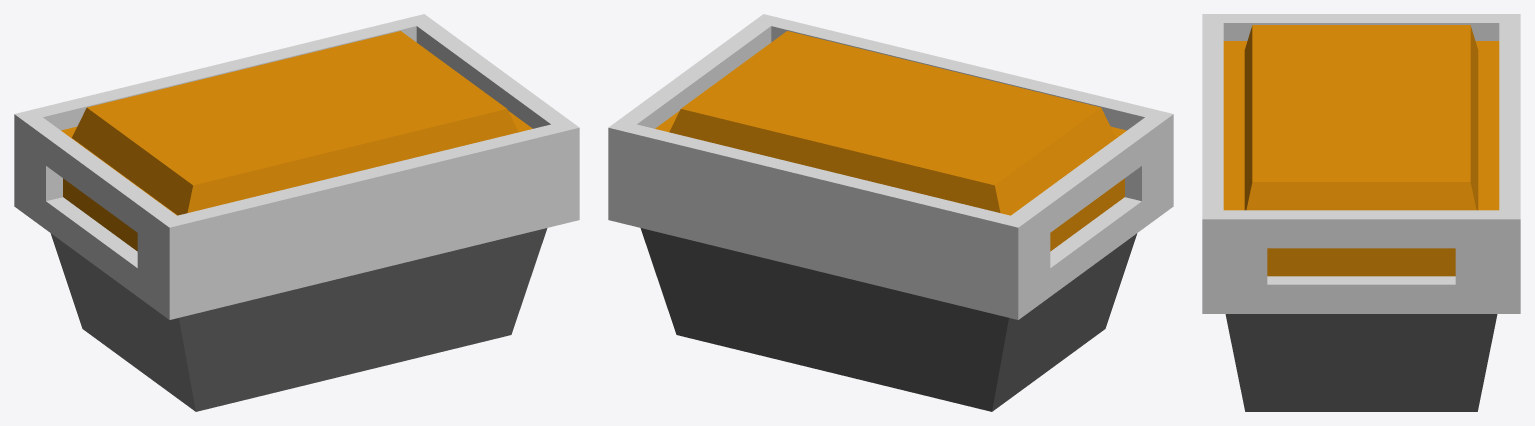
Rendered from Clothing_Box_Lowpoly.fbx.
The picture shows the model from 3 angles, left to right: view 1: azimuth 30°, elevation 25°; view 2: azimuth 150°, elevation 25°; view 3: azimuth 270°, elevation 25°; orthographic projection. The views are drawn at different scales.
Visible parts, largest first — view 1: pCube1; view 2: pCube1; view 3: pCube1.
Boxes of the visible parts, x1=… form: pCube1: x1=14, y1=14, x2=579, y2=411; pCube1: x1=608, y1=14, x2=1173, y2=411; pCube1: x1=1202, y1=14, x2=1520, y2=411.
Bounding box in the file's own units: 3.72 × 1.94 × 2.44.
